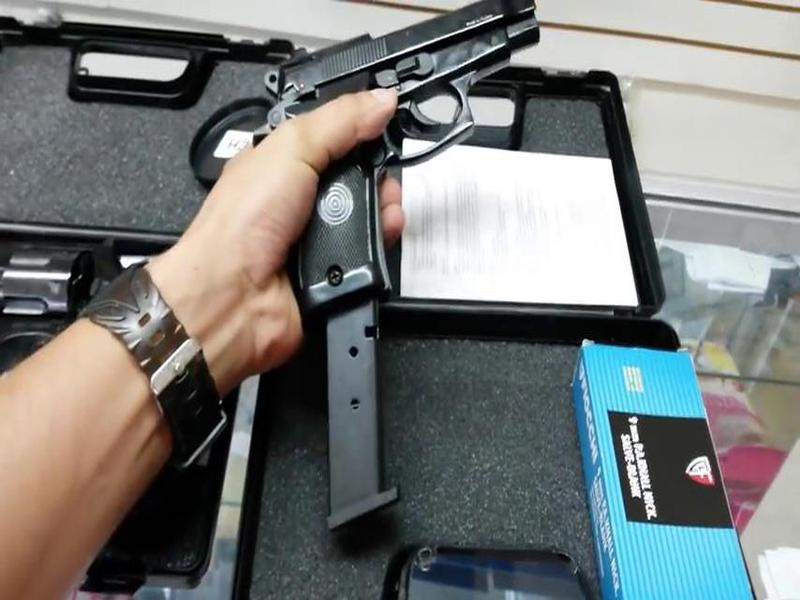Pistola: (261, 3, 571, 318)
